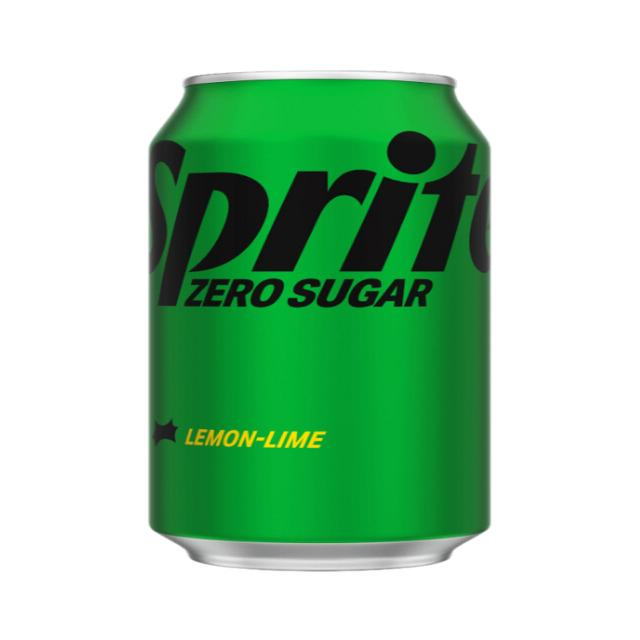sprite: (119, 68, 532, 580)
